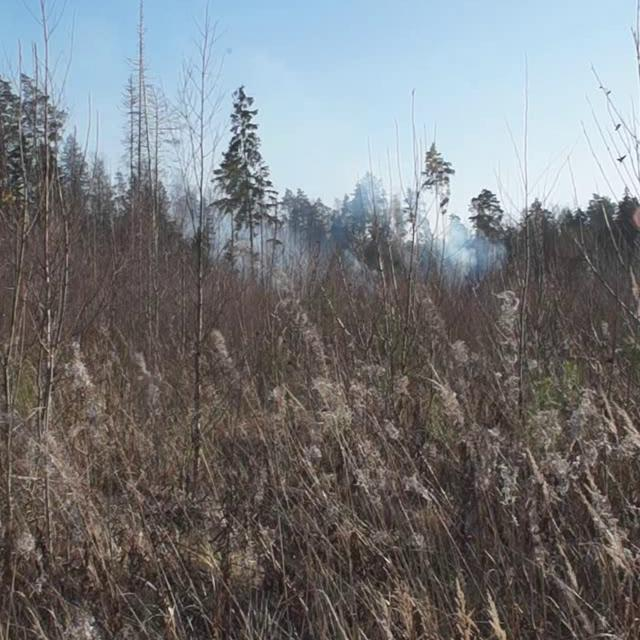Smoke: (167, 160, 520, 300)
